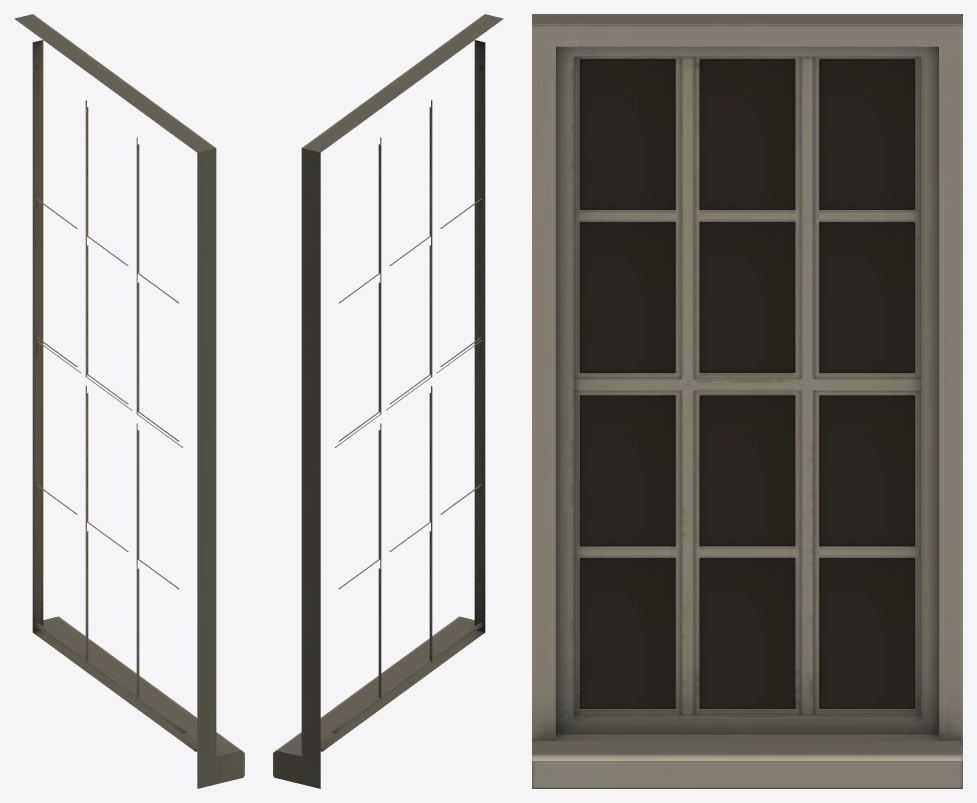
3 views of the same model, side by side, from view 1: azimuth 30°, elevation 25°; view 2: azimuth 150°, elevation 25°; view 3: azimuth 270°, elevation 25° (orthographic). The views are drawn at different scales.
Parts seen in each view (by area): view 1: body0_model0_lod0_mesh0; view 2: body0_model0_lod0_mesh0; view 3: body0_model0_lod0_mesh0.
Boxes of the visible parts, x1,y1,x2,y2 form: body0_model0_lod0_mesh0: [14, 14, 244, 788]; body0_model0_lod0_mesh0: [273, 14, 503, 788]; body0_model0_lod0_mesh0: [532, 14, 962, 788].
Bounding box in the file's own units: 8.12 × 103 × 54.01.
Materials: 1 (1 with a texture image).
